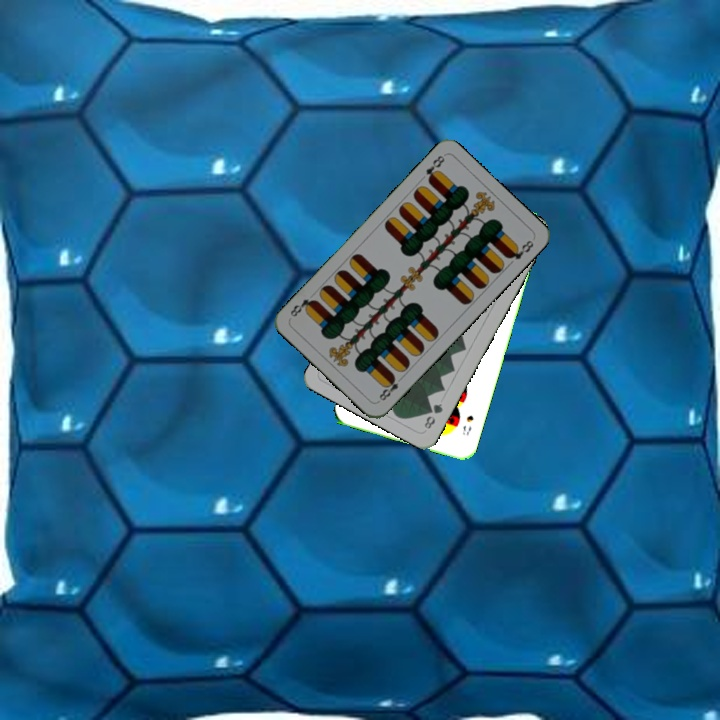E8: (374, 372, 406, 404), (421, 151, 447, 186)
G8: (420, 399, 445, 432)
S8: (458, 411, 476, 438)
